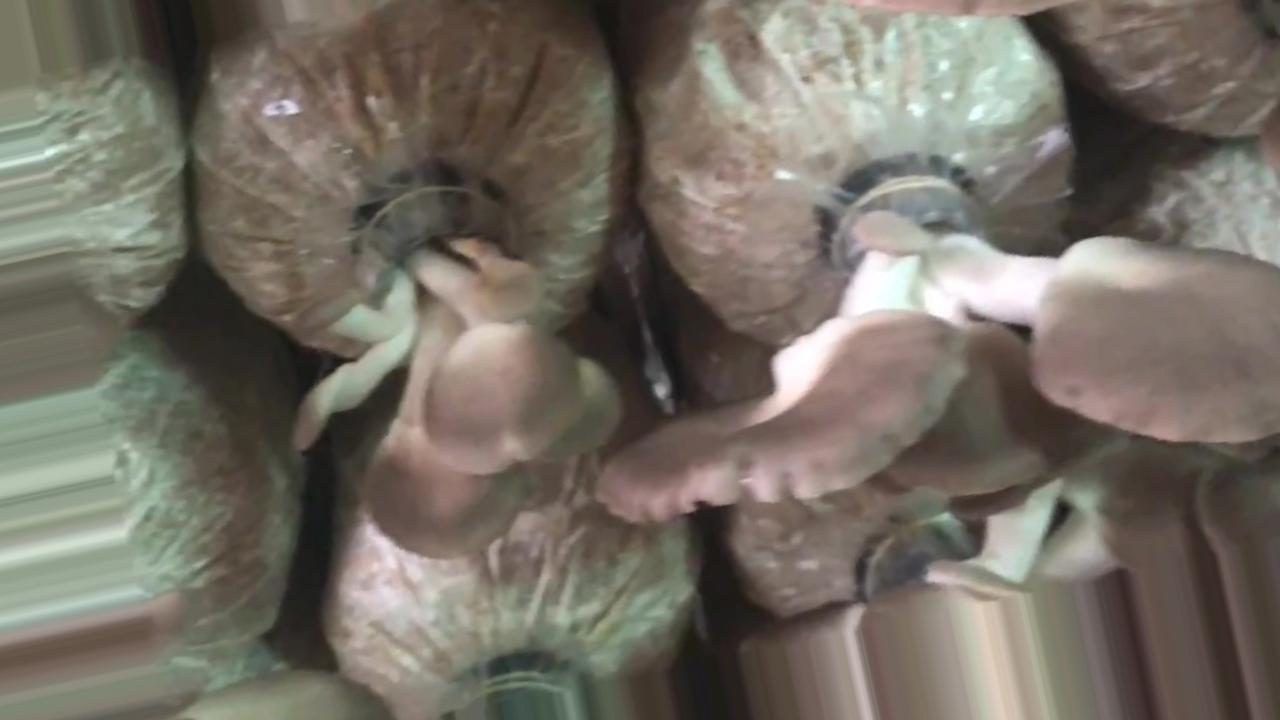nam: (591, 143, 1280, 525), (291, 168, 623, 563)
